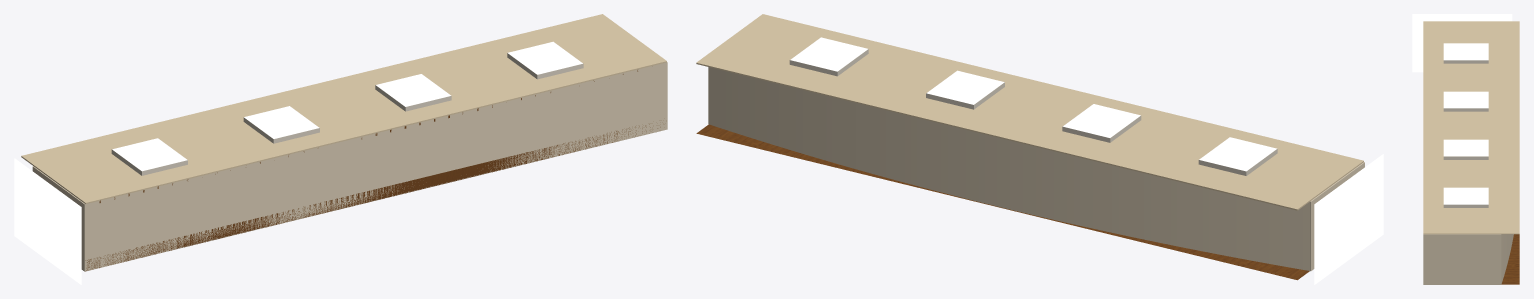
Rendered from 1-shell.glb.
3 views of the same model, side by side, from view 1: azimuth 30°, elevation 25°; view 2: azimuth 150°, elevation 25°; view 3: azimuth 270°, elevation 25° (orthographic). The views are drawn at different scales.
Visible parts, largest first — view 1: SHELL; view 2: SHELL; view 3: SHELL.
Boxes of the visible parts, <box> form: SHELL: <box>14,14,667,284</box>; SHELL: <box>696,14,1383,284</box>; SHELL: <box>1412,14,1519,284</box>.
Size of the model in its own units: 59.11 by 7.45 by 12.35.
Materials: 10 (2 with a texture image).
